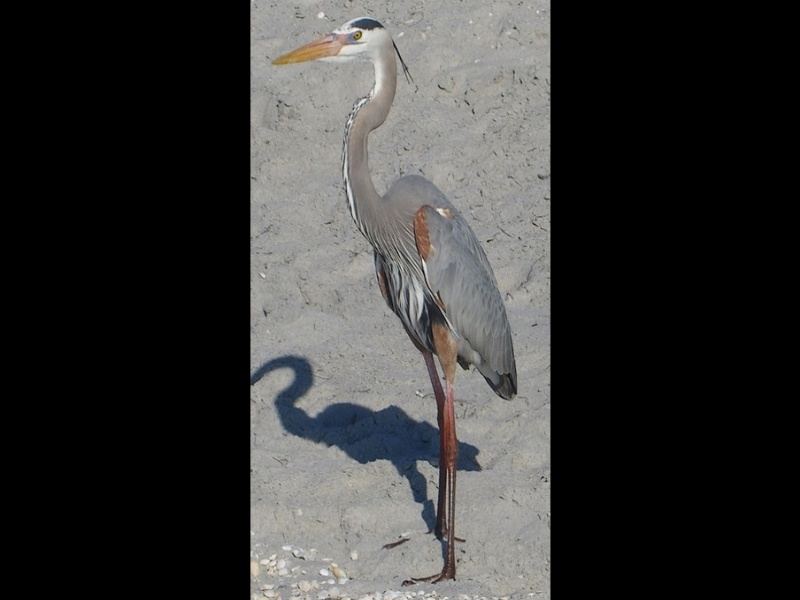heron: (267, 14, 519, 582)
